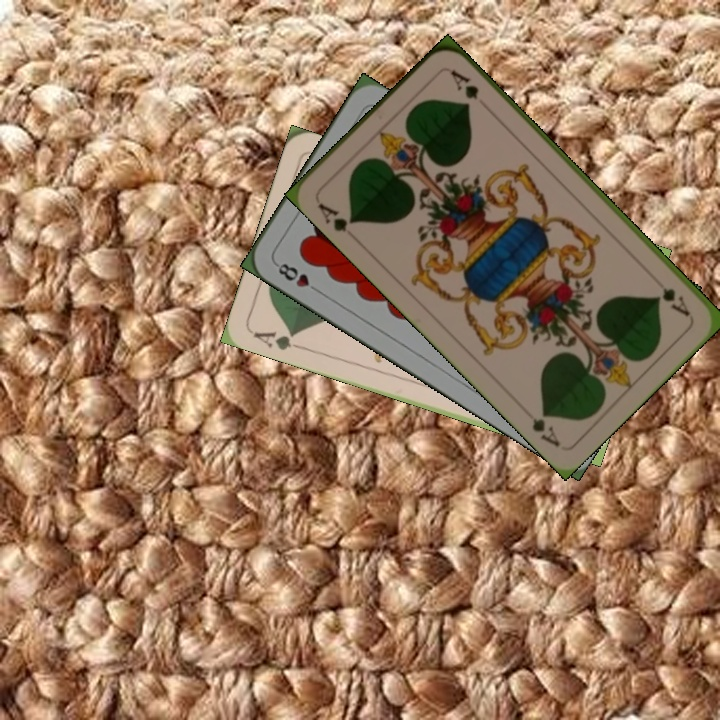GA: (314, 198, 359, 235), (249, 327, 307, 353), (658, 284, 693, 320)
H8: (271, 258, 324, 296)
